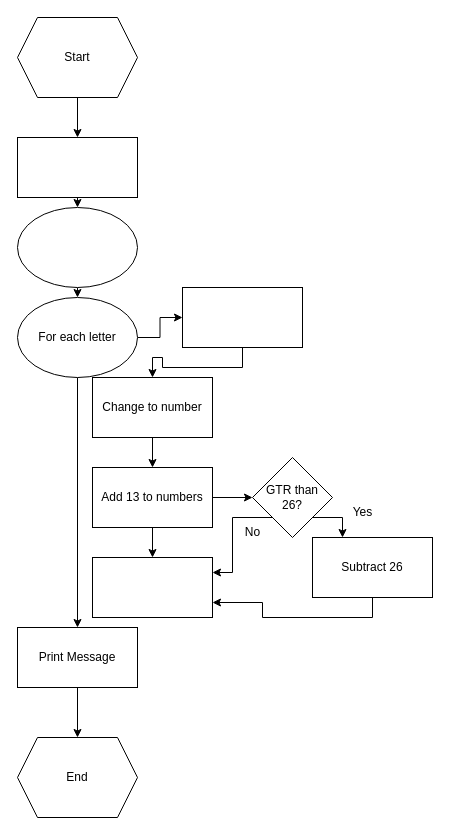
This 450x835 diagram has some shape labels left out. The shapes that lost their labels are listed below. From the top down, each one's centre as x and y in pixels, then its label:
At (77,167): "Ask for message".
At (77,247): "Force lowercase".
At (242,317): "Rotate 13 letters".
At (152,587): "Change new number to letter".
